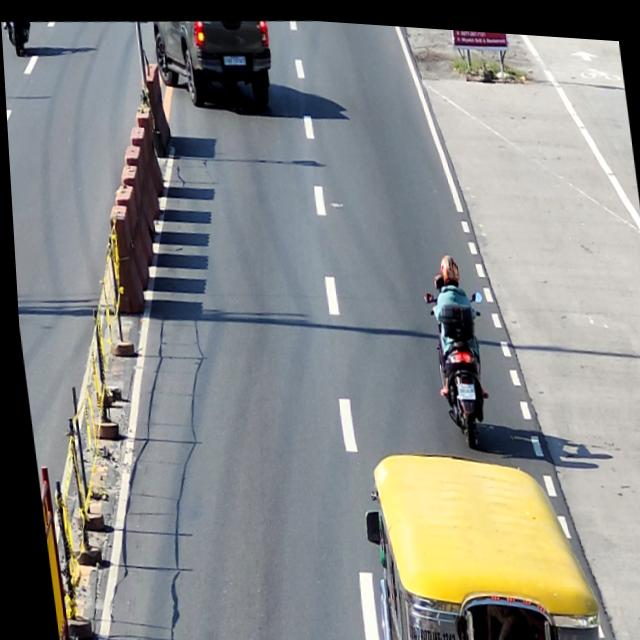Car: (151, 11, 277, 112)
Jeep: (348, 432, 598, 640)
License-Plate: (450, 375, 471, 393), (222, 51, 245, 63)
Motorcycle: (419, 275, 496, 446)
